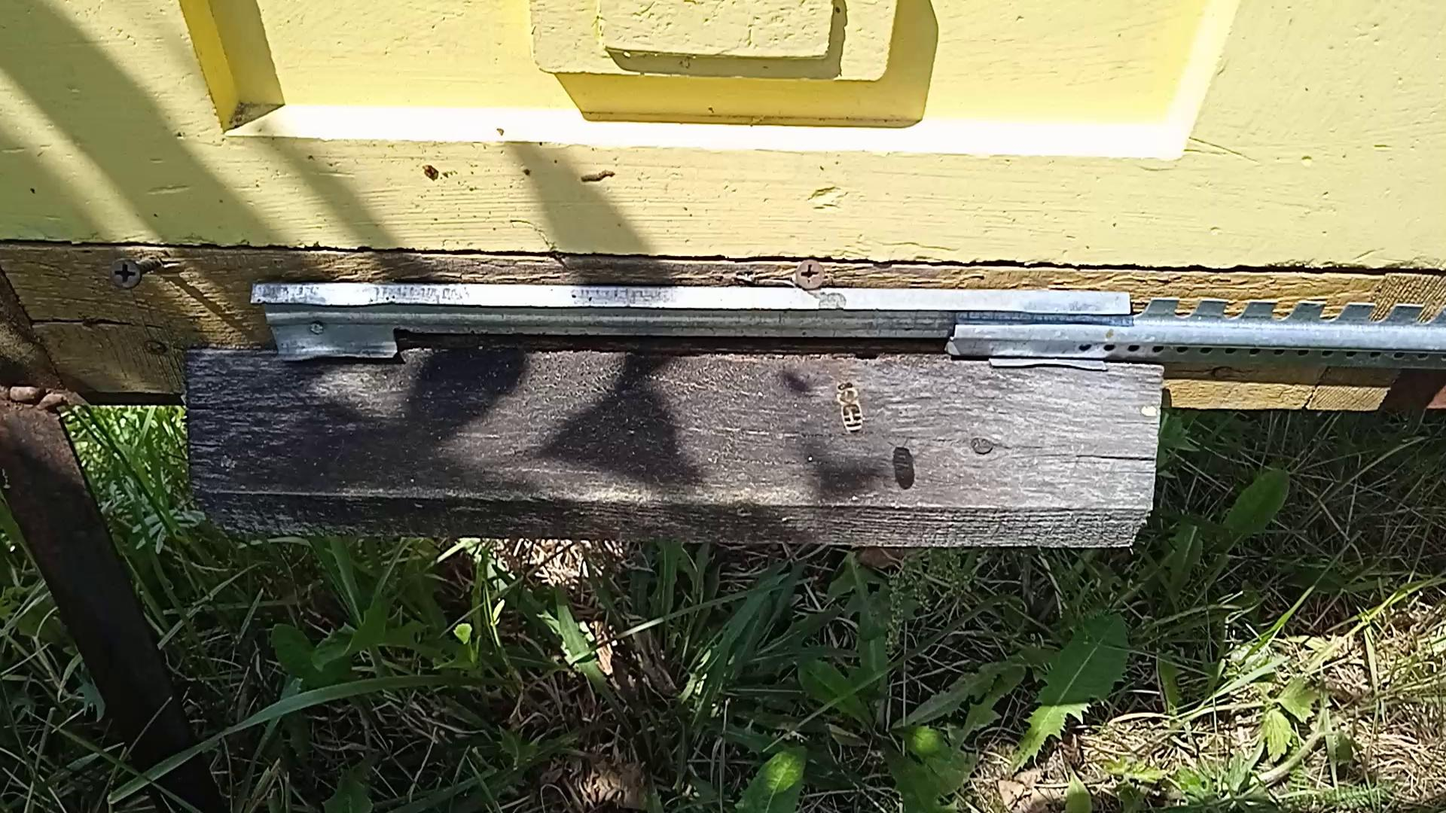worker-bee: (836, 379, 865, 437)
